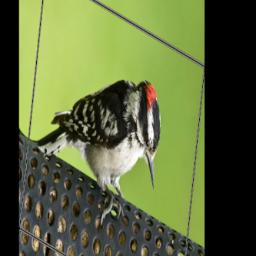Woodpecker: (32, 22, 167, 249)
